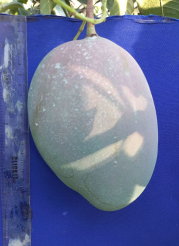Mango-sano: (28, 27, 157, 210)
